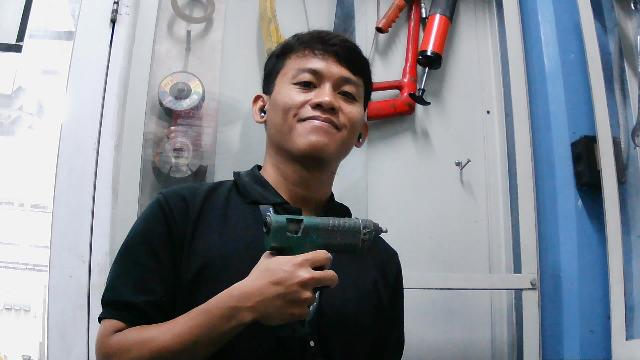gun_lem: (254, 208, 390, 311)
